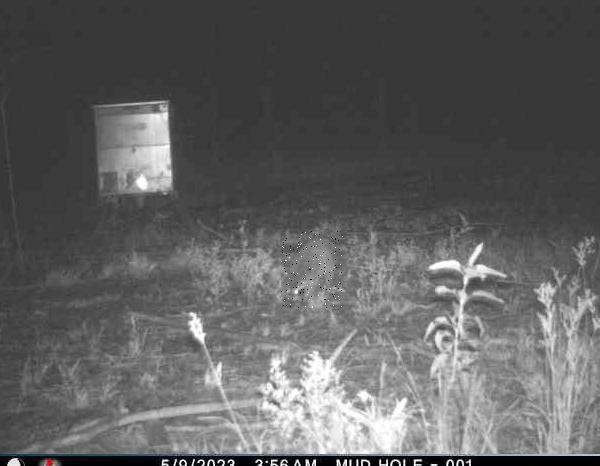Raccoon: (282, 231, 344, 308)
